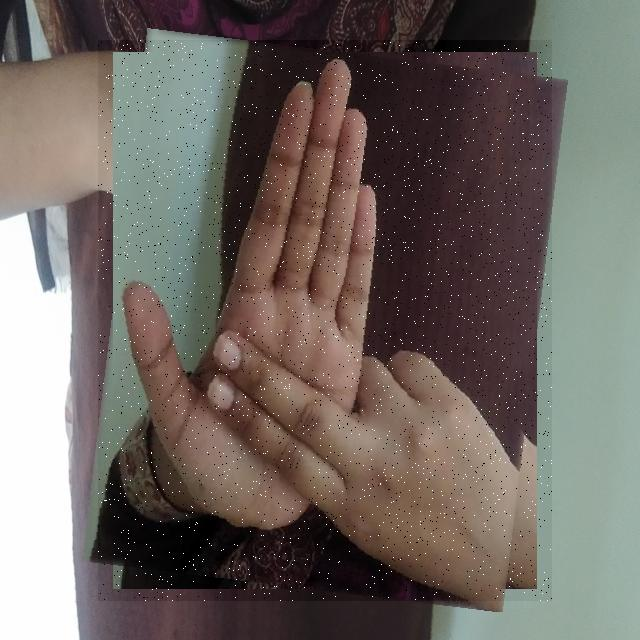N: (98, 40, 552, 601)
